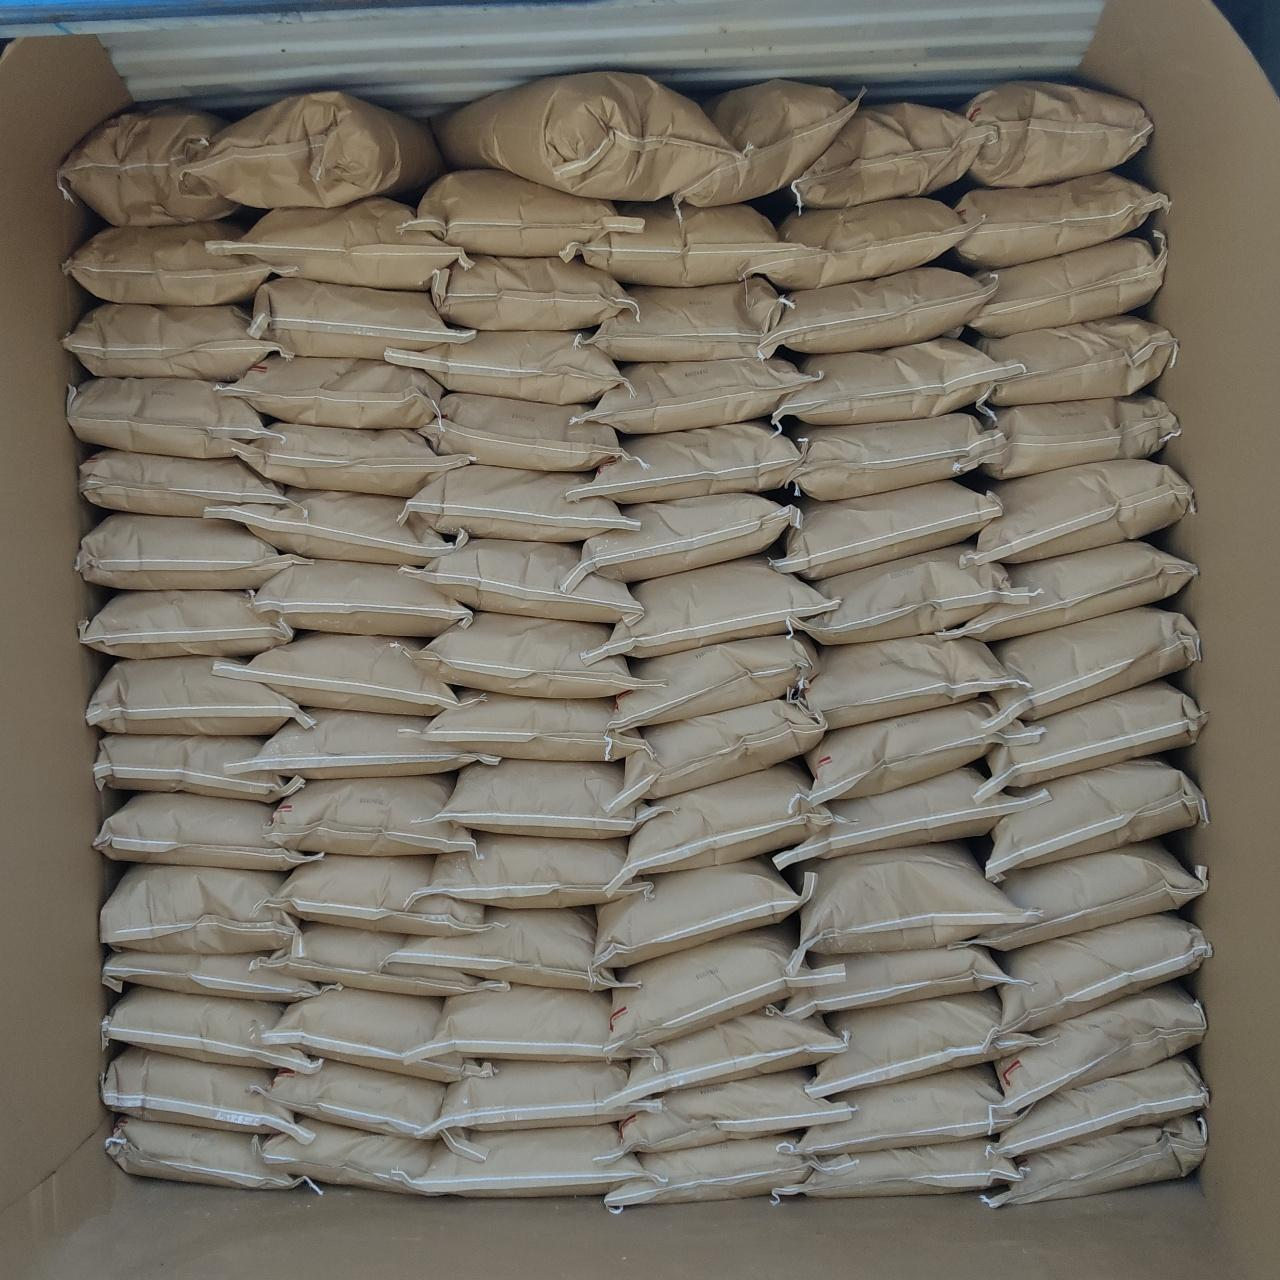sack: (436, 72, 745, 198), (608, 762, 832, 896), (184, 91, 440, 206), (983, 758, 1206, 881), (794, 842, 1028, 958), (776, 765, 1044, 866), (964, 838, 1206, 949), (994, 914, 1208, 1039), (996, 982, 1204, 1110), (978, 680, 1204, 796), (614, 922, 822, 1046), (798, 697, 1032, 806), (942, 540, 1196, 638), (608, 700, 822, 812), (986, 606, 1198, 719), (964, 459, 1192, 561), (600, 556, 836, 654), (810, 990, 1034, 1094), (674, 82, 855, 206), (258, 1060, 484, 1158), (990, 1056, 1207, 1158), (595, 860, 804, 966), (774, 482, 998, 578), (222, 198, 464, 286), (798, 546, 1020, 642), (790, 102, 994, 206), (796, 636, 1030, 726), (617, 1012, 846, 1102), (983, 1114, 1206, 1206), (776, 338, 1020, 422), (568, 493, 798, 583), (263, 988, 486, 1078), (560, 202, 799, 286), (57, 110, 238, 222), (954, 172, 1166, 266), (206, 490, 467, 566), (404, 170, 638, 254), (215, 634, 458, 714), (971, 234, 1164, 334), (104, 1048, 308, 1141), (754, 198, 968, 286), (408, 540, 638, 622), (394, 906, 617, 990), (411, 612, 640, 694), (798, 1065, 1014, 1152), (254, 922, 508, 996), (790, 411, 1000, 501), (610, 634, 813, 726), (570, 422, 799, 502), (962, 84, 1150, 182), (618, 1073, 852, 1150), (978, 314, 1175, 406), (104, 986, 318, 1070), (230, 710, 493, 778), (778, 266, 990, 350), (576, 358, 816, 430), (410, 986, 644, 1060), (230, 422, 470, 493), (252, 278, 470, 356), (268, 856, 486, 934), (409, 1124, 645, 1197), (408, 464, 632, 540), (64, 220, 272, 302), (976, 394, 1178, 478), (96, 794, 316, 870), (386, 332, 622, 402), (434, 760, 652, 836), (774, 946, 1017, 1014), (606, 1136, 842, 1206), (254, 560, 470, 636), (88, 658, 302, 734), (64, 304, 278, 380), (270, 774, 470, 855), (584, 278, 787, 358), (102, 866, 294, 949), (430, 1060, 658, 1130), (416, 835, 651, 903), (79, 515, 294, 588), (105, 1116, 318, 1190), (220, 356, 440, 425), (422, 692, 648, 758), (68, 377, 266, 454), (424, 394, 622, 470), (252, 1121, 443, 1197), (774, 1141, 1020, 1198), (434, 256, 632, 326), (80, 592, 292, 656), (96, 734, 302, 799), (80, 450, 286, 515), (104, 952, 326, 1000)
